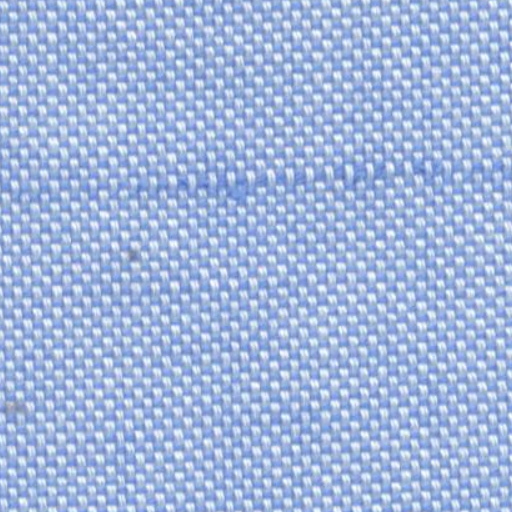DaiSha: (144, 146, 461, 202)
